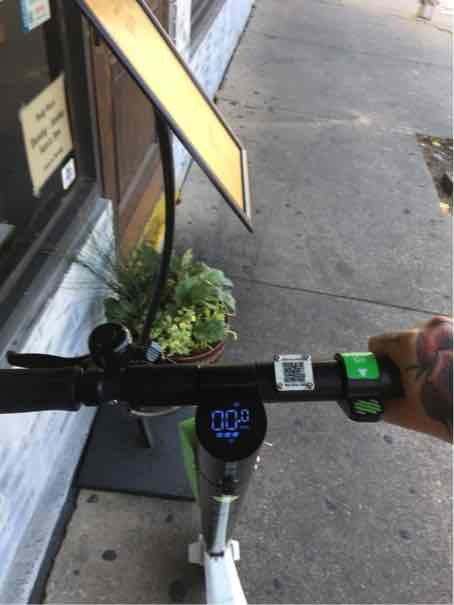scooter: (48, 306, 448, 600)
